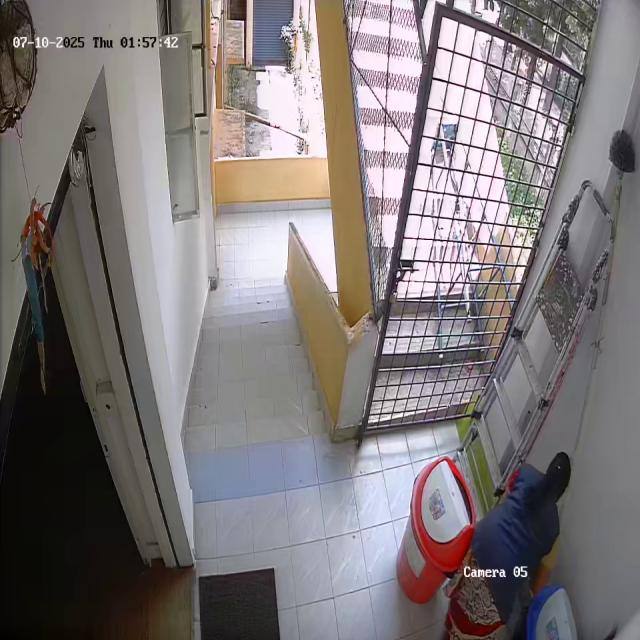person: (453, 447, 573, 640)
